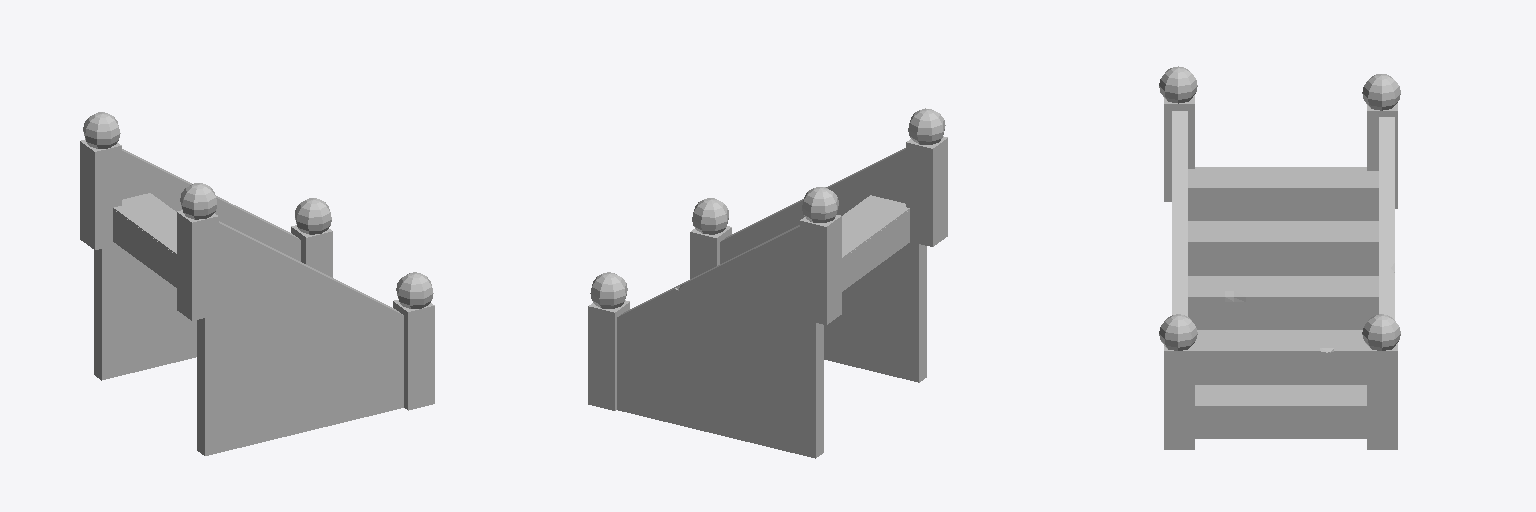
Rendered from scaler.obj.
The picture shows the model from 3 angles: view 1: azimuth 30°, elevation 25°; view 2: azimuth 150°, elevation 25°; view 3: azimuth 270°, elevation 25°; orthographic projection.
Parts seen in each view (by area): view 1: pCube14; view 2: pCube14; view 3: pCube14.
Boxes of the visible parts, x1,y1,x2,y2 form: pCube14: [80, 112, 434, 455]; pCube14: [588, 108, 947, 458]; pCube14: [1159, 66, 1400, 449].
Size of the model in its own units: 5.92 by 6.12 by 4.97.